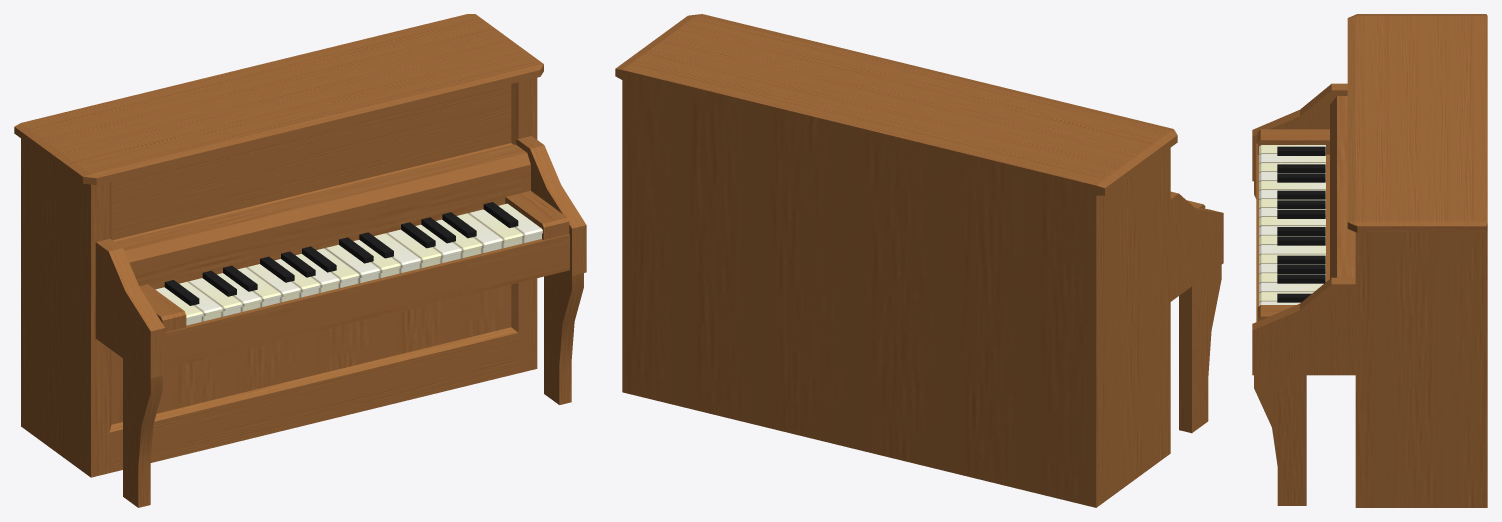
File: Piano_C.FBX
3 renders of one model, left to right at view 1: azimuth 30°, elevation 25°; view 2: azimuth 150°, elevation 25°; view 3: azimuth 270°, elevation 25°, orthographic. The views are drawn at different scales.
Visible parts, largest first — view 1: Piano; view 2: Piano; view 3: Piano.
Boxes of the visible parts, box(x1,y1,x2,y2) form: Piano: box(14, 14, 586, 507); Piano: box(615, 14, 1223, 507); Piano: box(1252, 14, 1487, 507).
Size of the model in its own units: 362 by 228 by 170.
